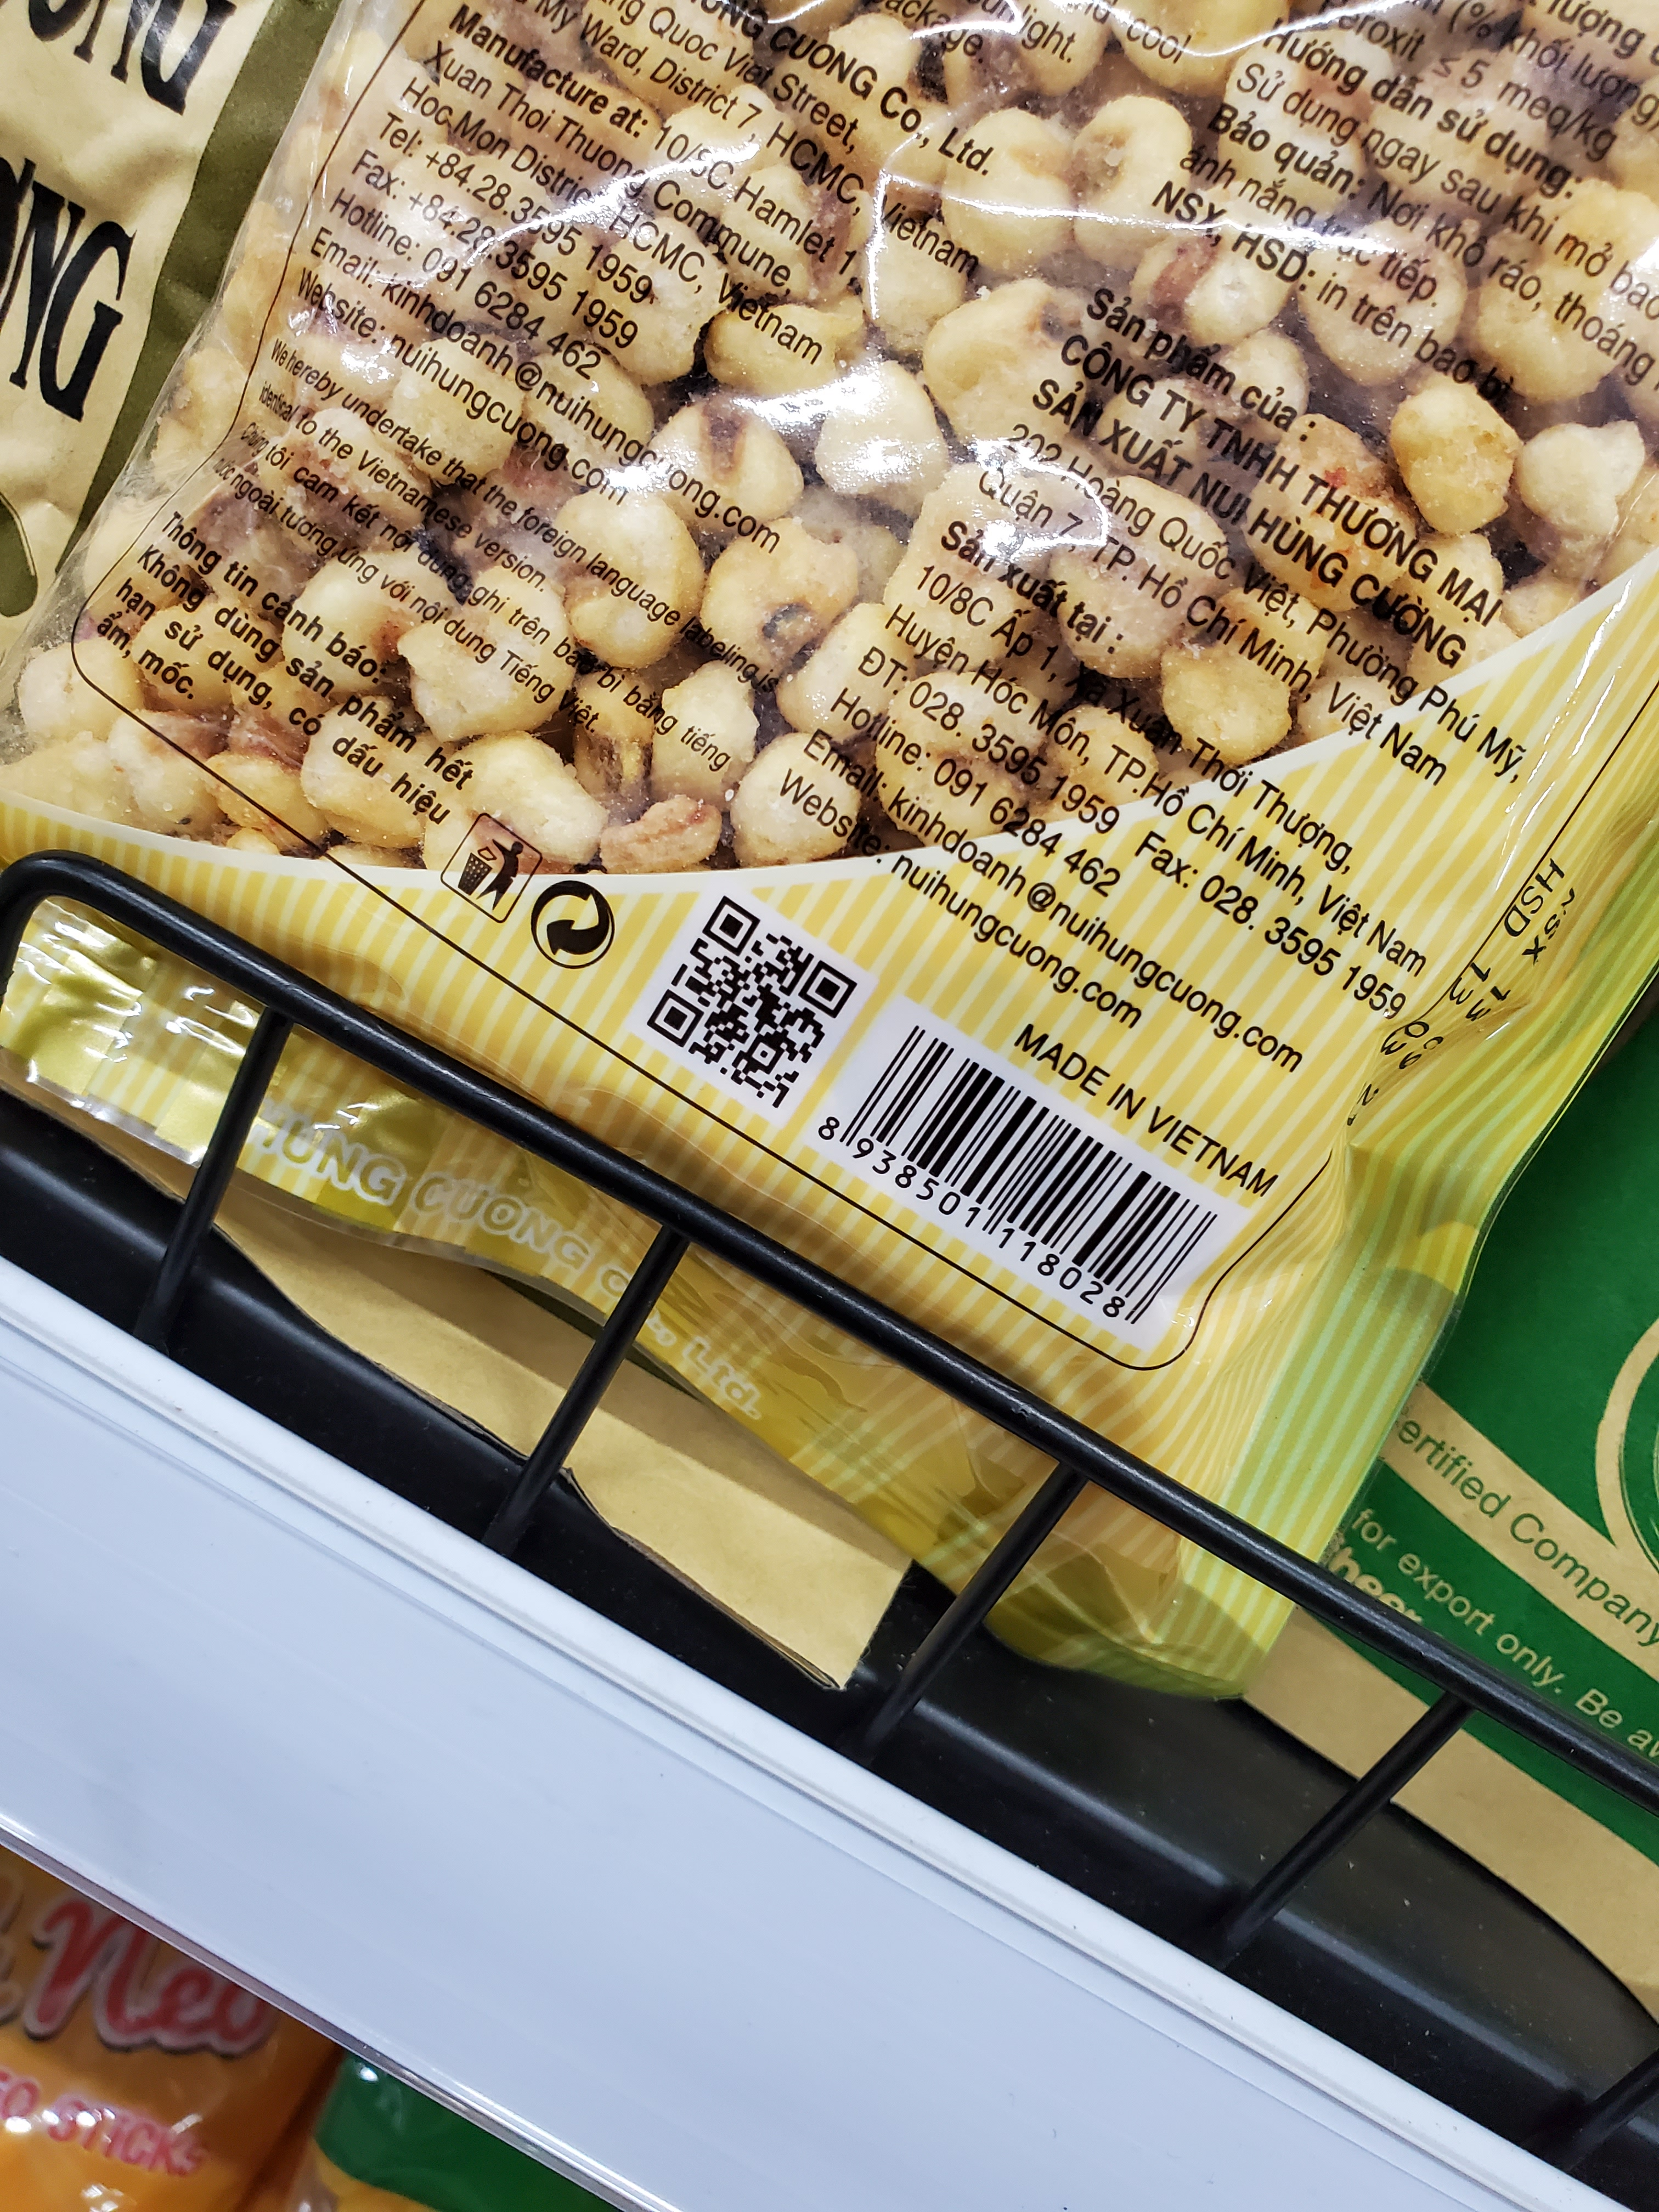barcode: (791, 1012, 1260, 1369)
qr code: (620, 873, 864, 1129)
